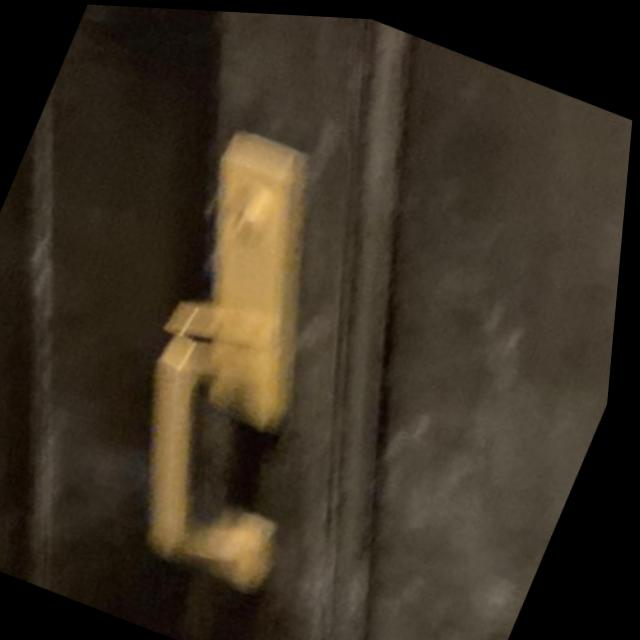door_handle: (73, 314, 385, 616)
